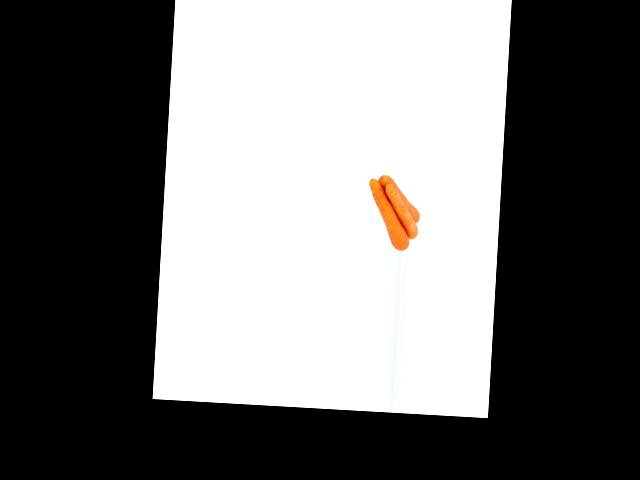carrot: (366, 180, 412, 251)
